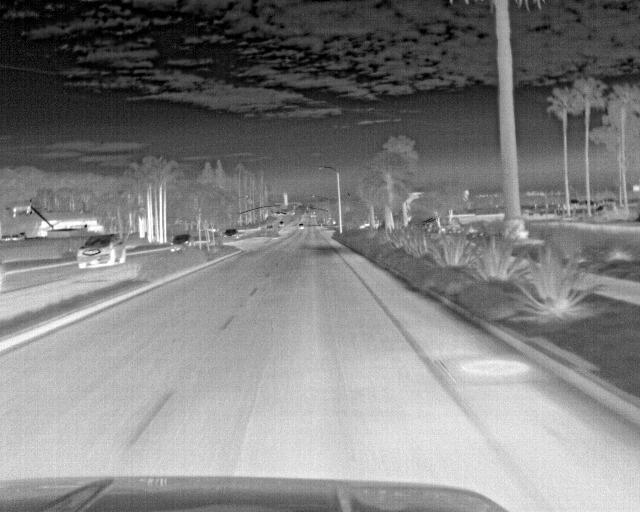car: (77, 232, 128, 272), (168, 233, 191, 253), (222, 228, 240, 243)
